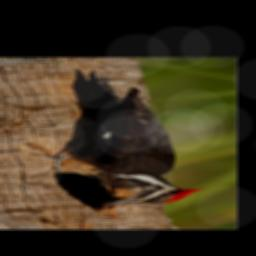Woodpecker: (29, 69, 205, 207)
